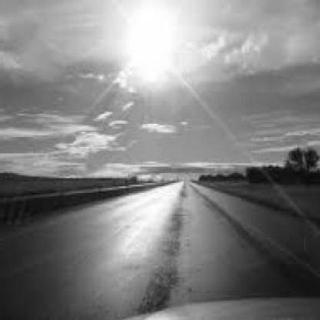other: (116, 3, 192, 87)
